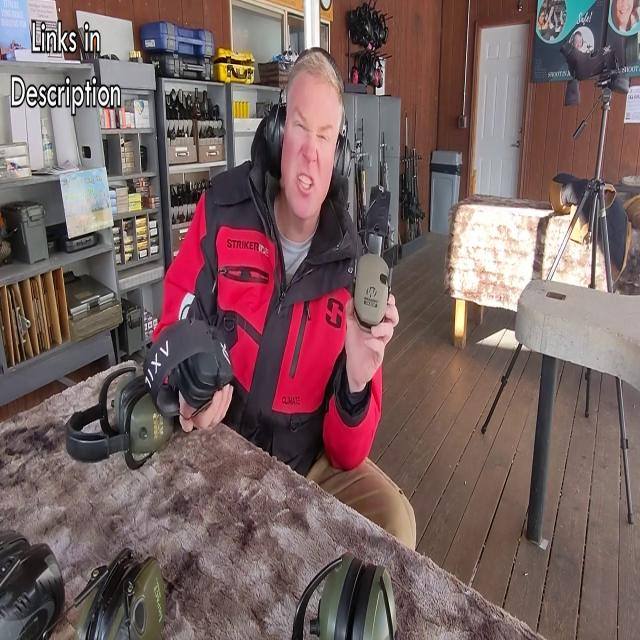earmuff: (353, 246, 393, 334), (260, 92, 288, 182), (328, 126, 358, 203)
